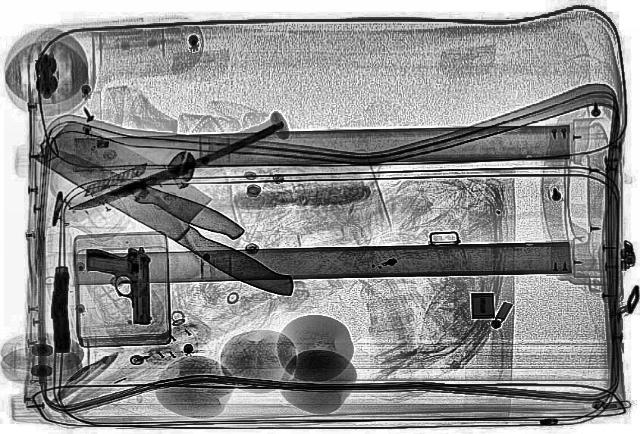Gun: (84, 245, 152, 325), (49, 265, 71, 352)
Knife: (19, 115, 329, 305), (25, 134, 251, 244), (64, 122, 290, 216)
